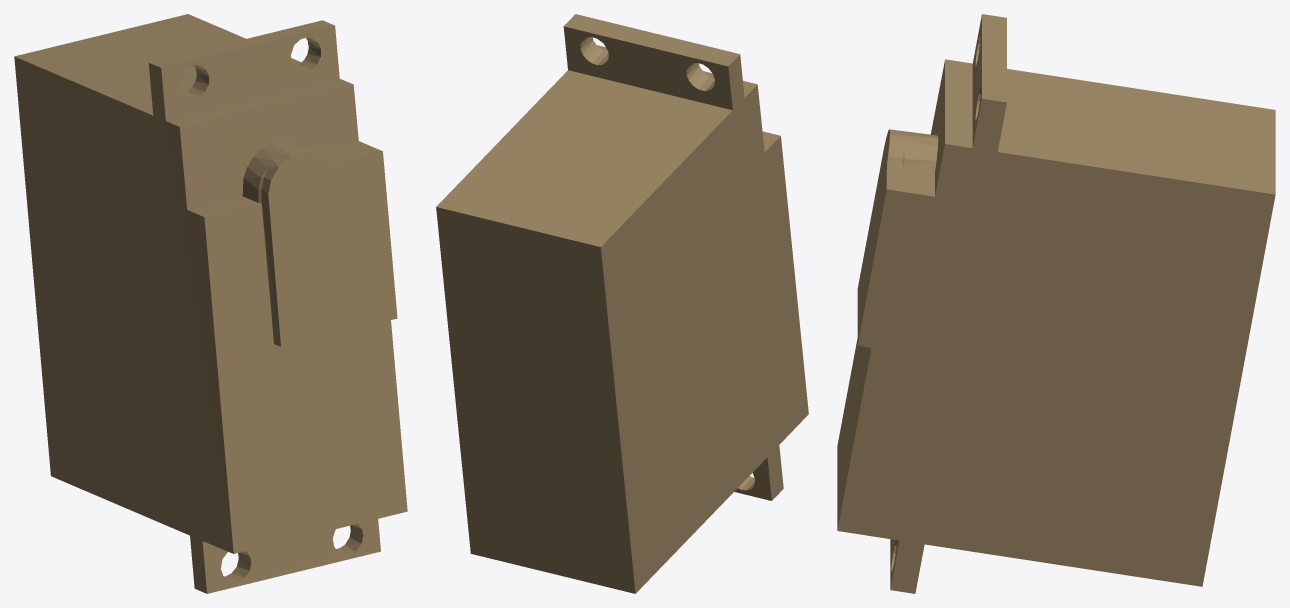
File: Texture.214.dae.balanced.glb
3 renders of one model, left to right at view 1: azimuth 30°, elevation 25°; view 2: azimuth 150°, elevation 25°; view 3: azimuth 270°, elevation 25°, orthographic. The views are drawn at different scales.
Size of the model in its own units: 0.2828 by 0.7706 by 0.618.
